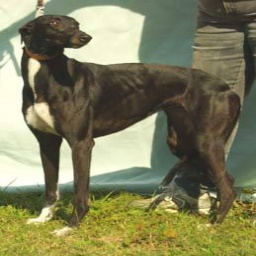dog: (15, 14, 240, 234)
